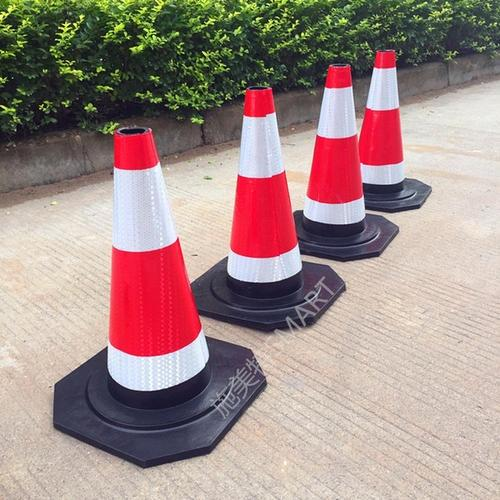cone_barrel: (83, 129, 223, 430), (206, 89, 313, 320), (297, 67, 374, 253), (353, 49, 419, 202)
